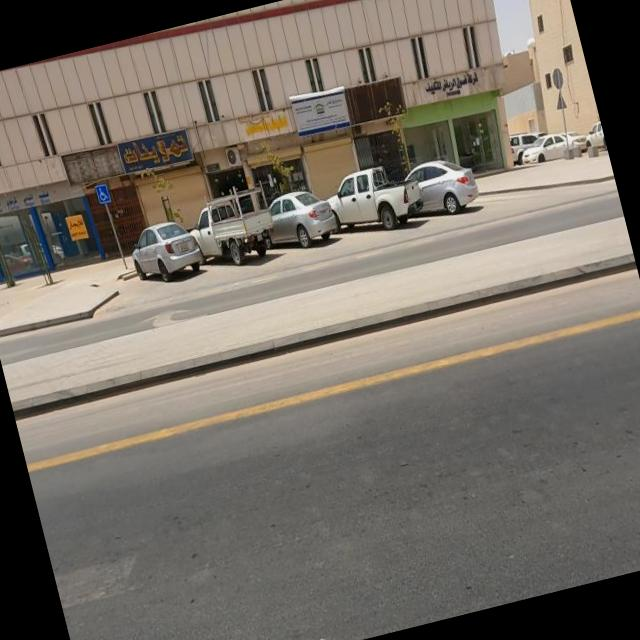debris: (21, 95, 175, 232), (302, 43, 444, 163), (155, 80, 265, 188)
